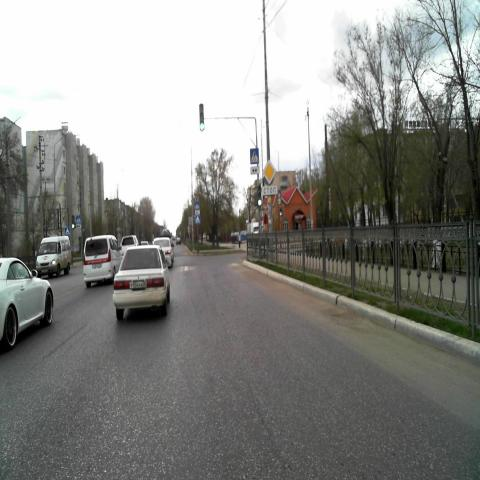6_16: (262, 185, 277, 195)
